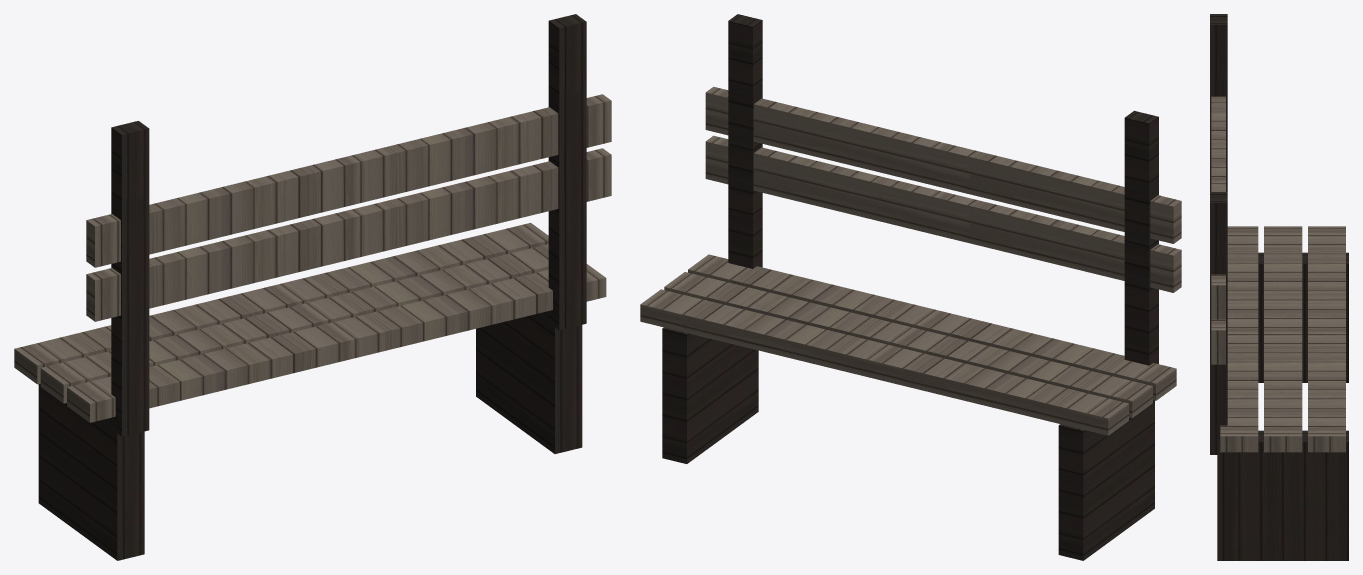
Rendered from bench_01.glb.
3 renders of one model, left to right at view 1: azimuth 30°, elevation 25°; view 2: azimuth 150°, elevation 25°; view 3: azimuth 270°, elevation 25°, orthographic. The views are drawn at different scales.
Visible parts, largest first — view 1: bench_01; view 2: bench_01; view 3: bench_01.
Part boxes in pixels (box(x1,y1,x2,y2)): bench_01: box(14, 14, 611, 560); bench_01: box(640, 14, 1181, 560); bench_01: box(1210, 14, 1348, 560).
Bounding box in the file's own units: 1.7 × 1.35 × 0.475.
2 materials, 2 textured.
